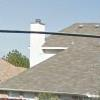Chimney: (26, 12, 57, 74)
